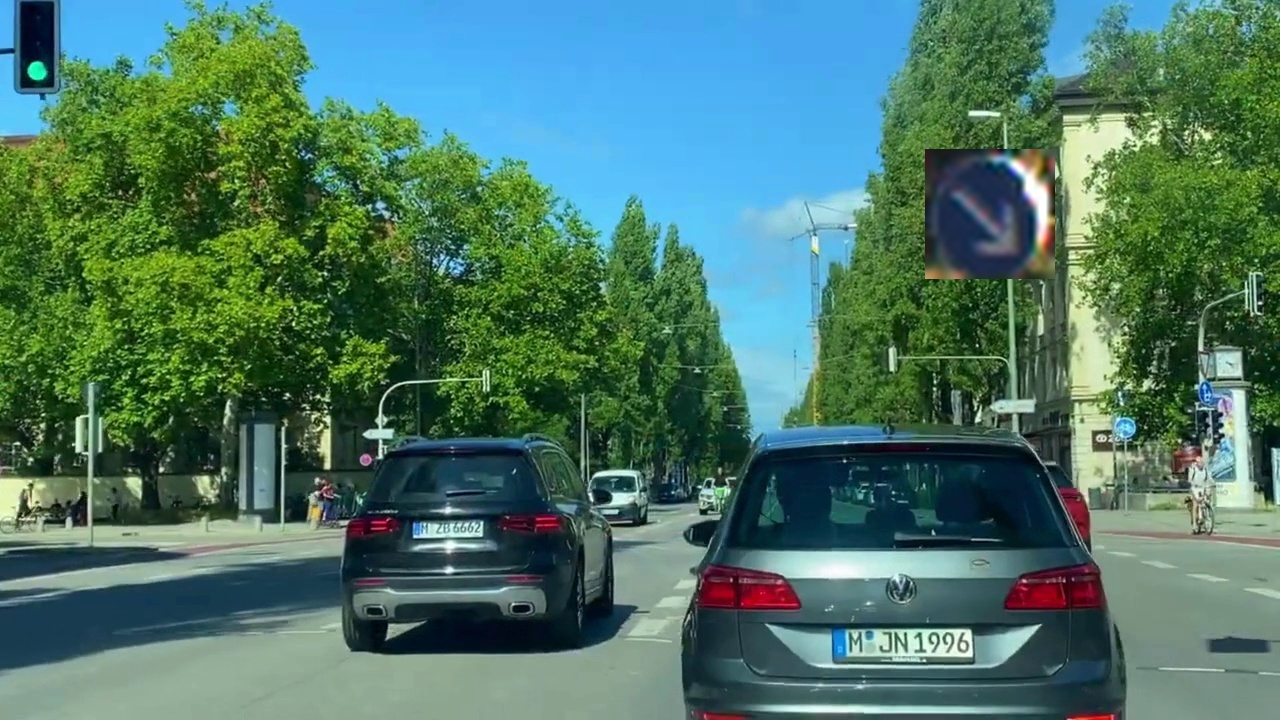Keep right: (925, 149, 1055, 279)
